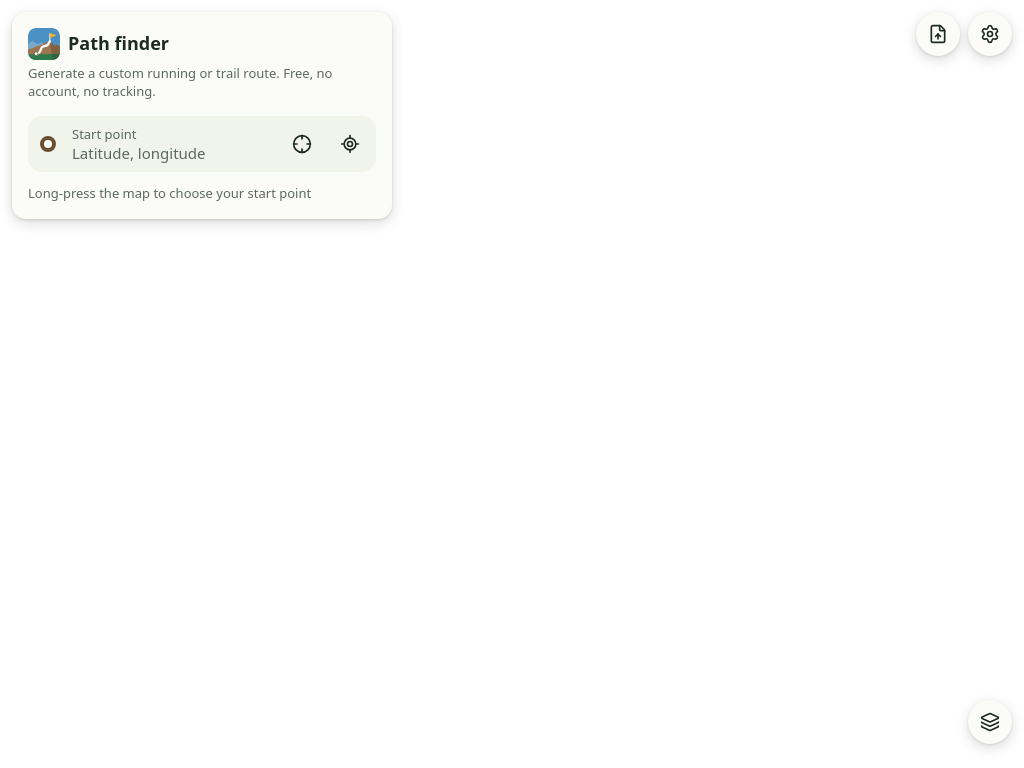
it: CriteriaView › on desktops › says once that coordinates cannot be read, when Enter comes before a blur
The width and height of the screenshot is (1024, 768).
Type "Paris" into the field with test id "criteria-start". click: (168, 154)
box: [72,143,264,164]
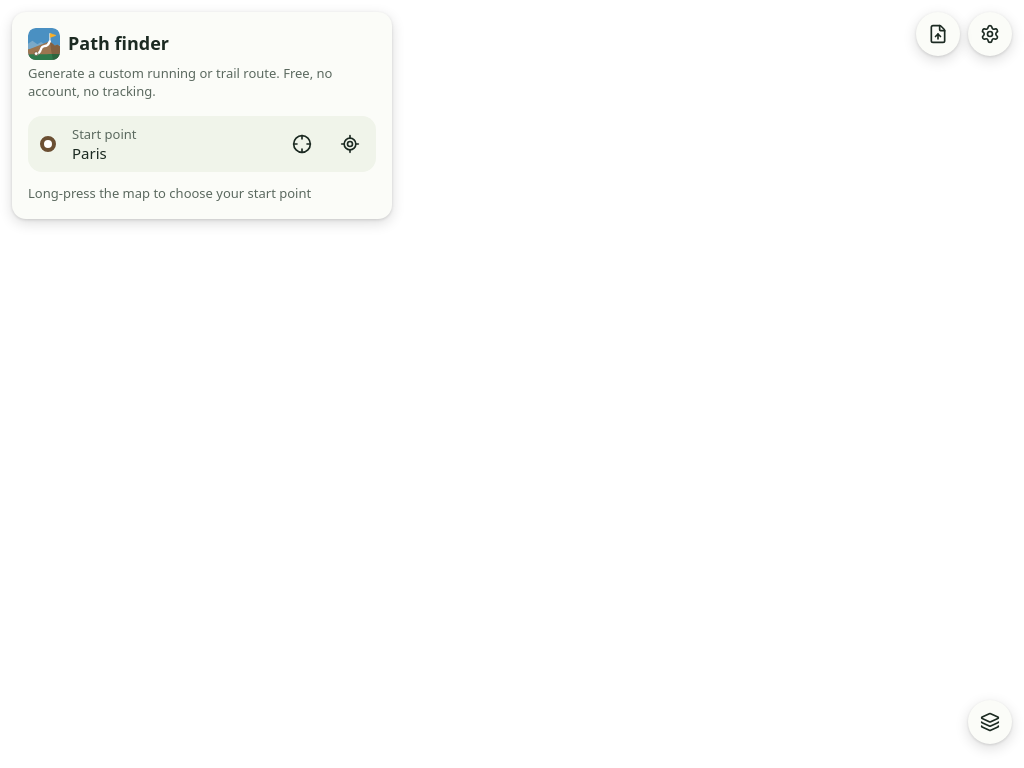
Press Enter in the field with test id "criteria-start", box [72,143,264,164]
Wait 5000 ms
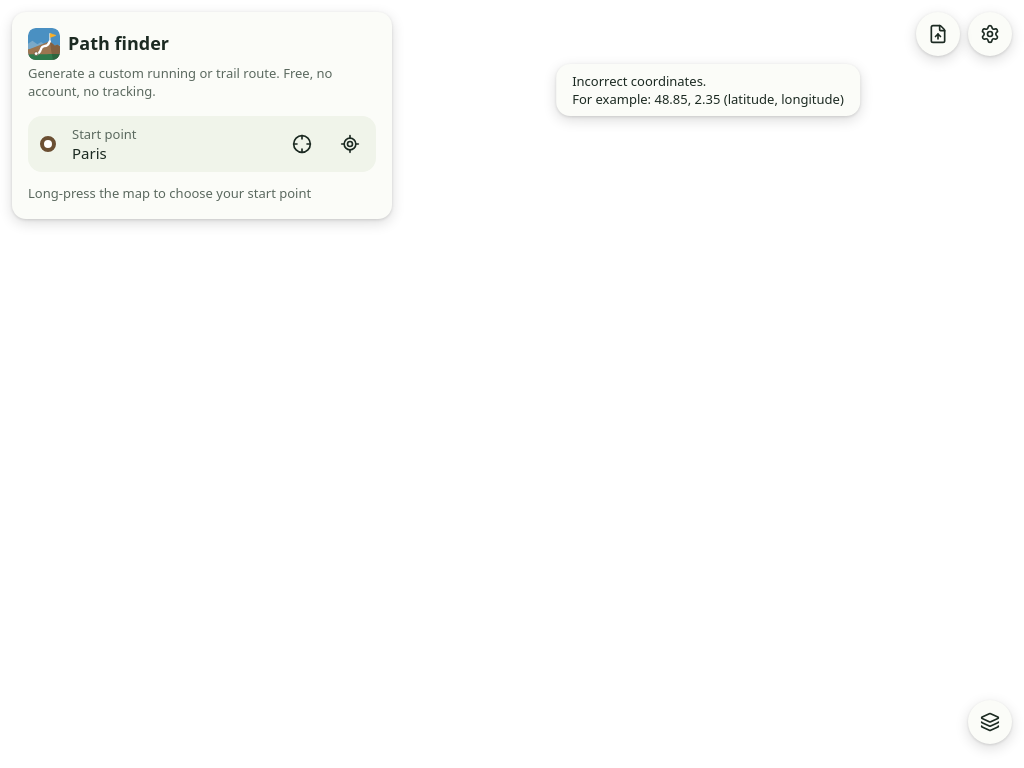
Leave the field with test id "criteria-start", box [72,143,264,164]
Wait 1000 ms
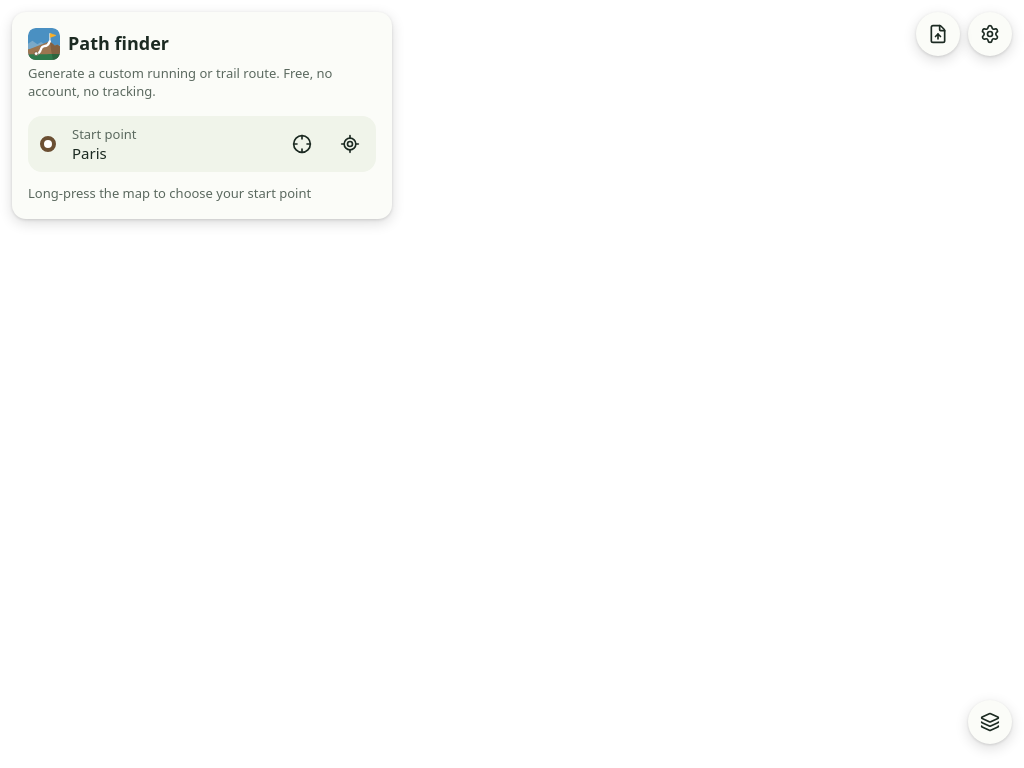
Result: the message with test id "criteria-toast" is gone
